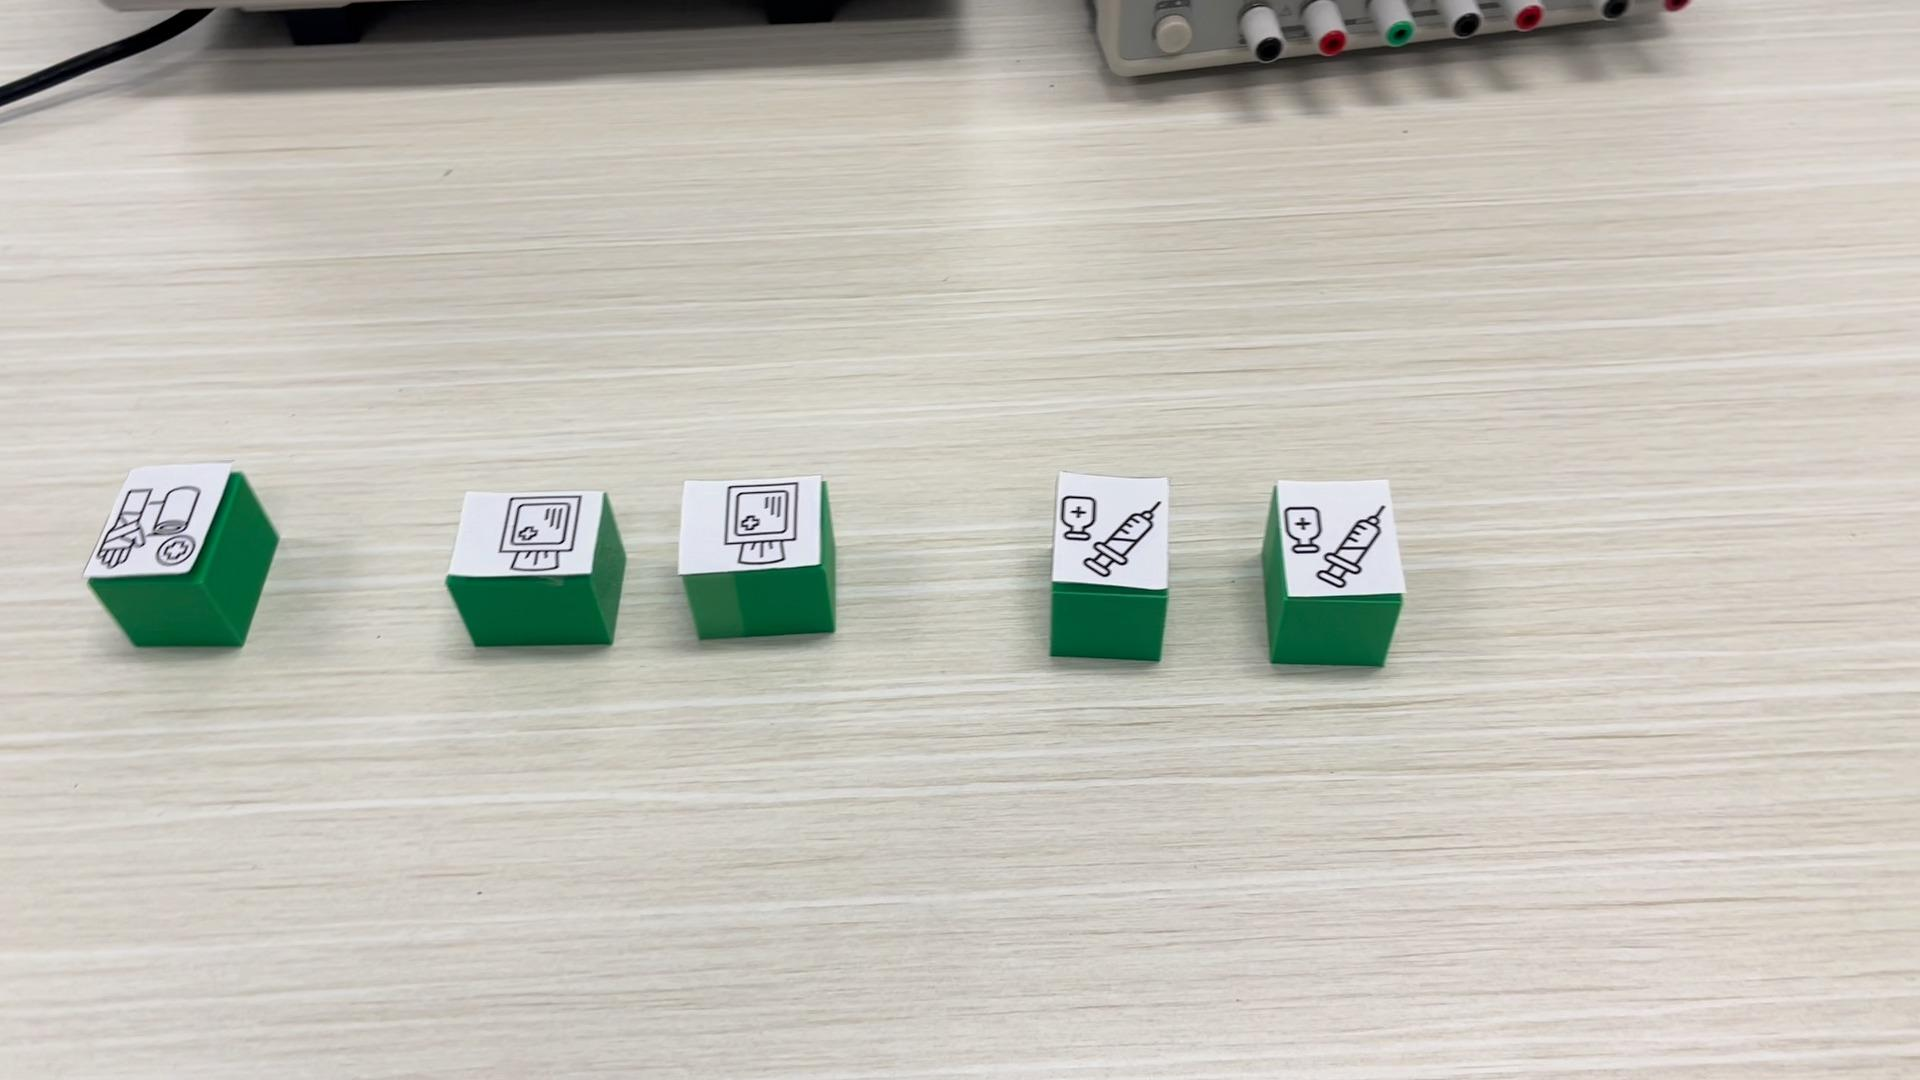Bandages: (83, 462, 277, 647)
Gauze: (447, 488, 626, 645), (673, 476, 839, 640)
antiseptic cream: (1257, 475, 1406, 665), (1048, 469, 1170, 661)
